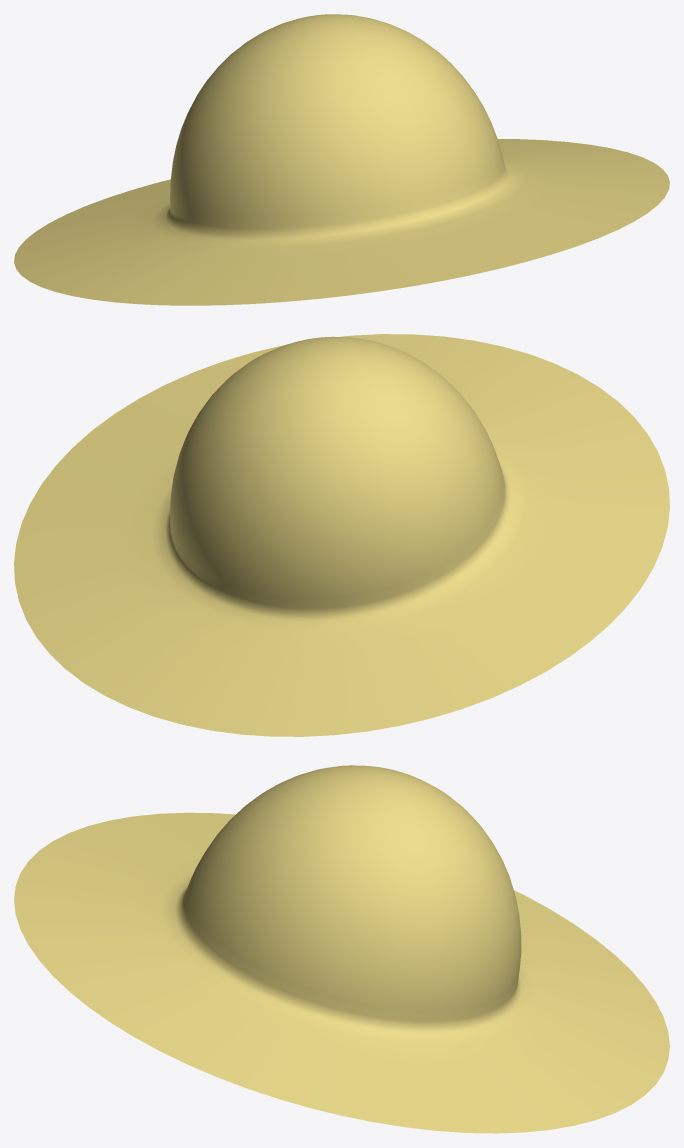
Rendered from Hat.fbx.
3 views of the same model, one above another, from view 1: azimuth 30°, elevation 25°; view 2: azimuth 150°, elevation 25°; view 3: azimuth 270°, elevation 25° (orthographic). The views are drawn at different scales.
Visible parts, largest first — view 1: Hat; view 2: Hat; view 3: Hat.
Boxes of the visible parts, box(x1,y1,x2,y2) form: Hat: box(14, 14, 669, 305); Hat: box(14, 334, 669, 736); Hat: box(14, 765, 669, 1133).
Bounding box in the file's own units: 69.45 × 30.19 × 67.43.
